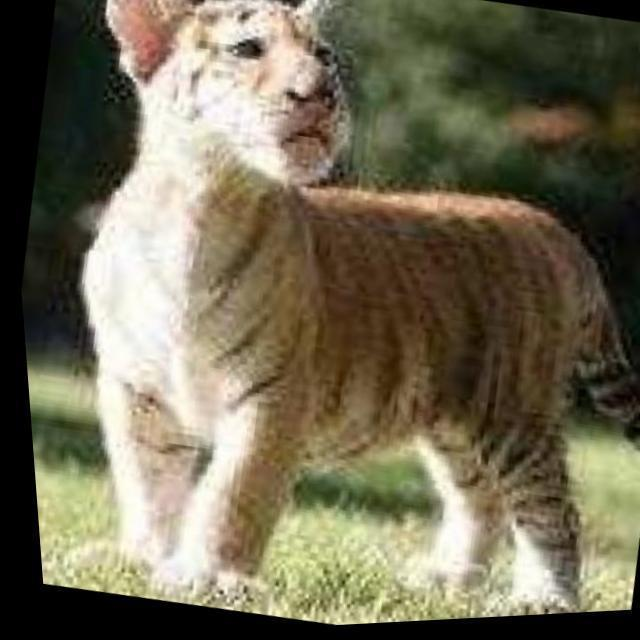tiger: (77, 0, 638, 612)
